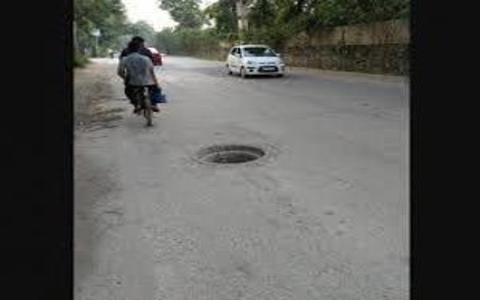open manhole: (173, 136, 280, 177)
